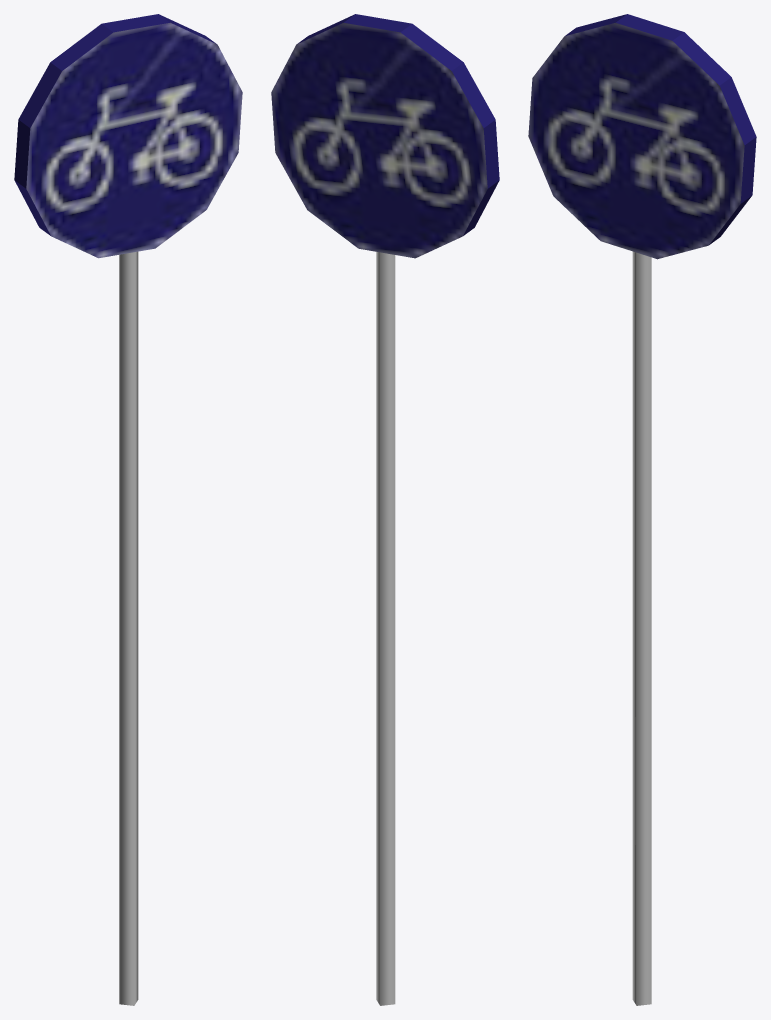
Rendered from Bike sign.fbx.
3 renders of one model, left to right at view 1: azimuth 30°, elevation 25°; view 2: azimuth 150°, elevation 25°; view 3: azimuth 330°, elevation 25°, orthographic.
Visible parts, largest first — view 1: Bike sign; view 2: Bike sign; view 3: Bike sign.
Part boxes in pixels (x1,y1,x2,y2): Bike sign: (14,14,242,1005); Bike sign: (271,14,499,1005); Bike sign: (528,14,756,1005).
Bounding box in the file's own units: 7.38 × 31.89 × 0.7061.
